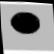correct: (7, 8, 45, 39)
